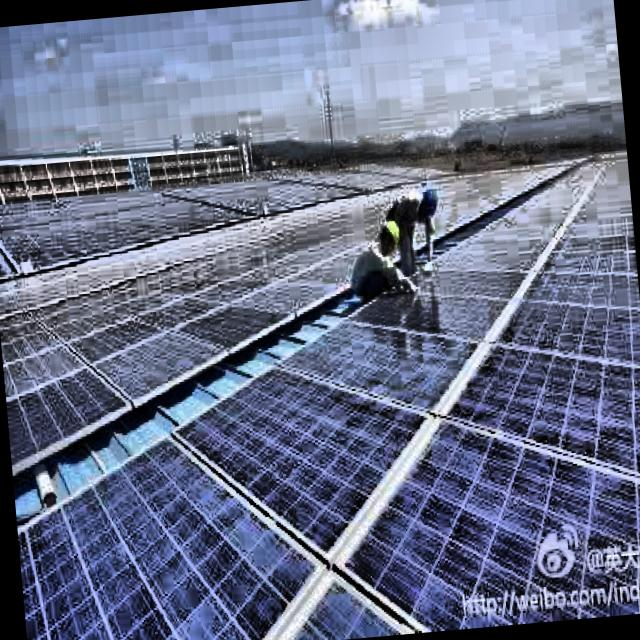helmet: (378, 218, 402, 258), (416, 183, 439, 220)
